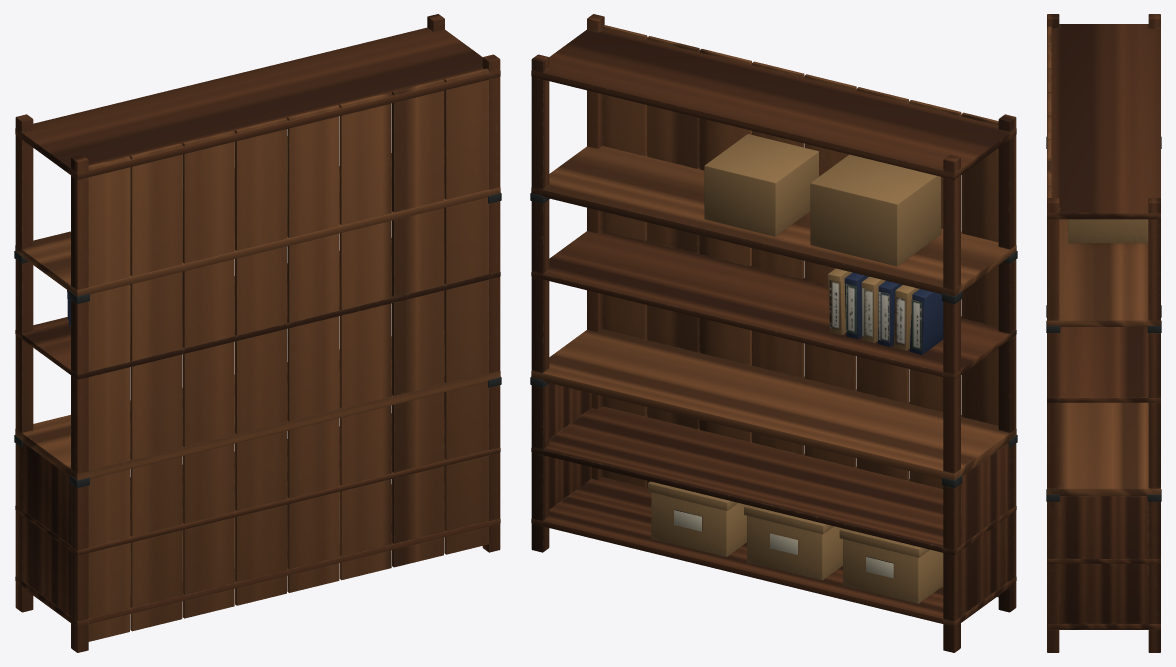
The model's file is CTCC_PROP_DryShelf.fbx.
The picture shows the model from 3 angles, left to right: view 1: azimuth 30°, elevation 25°; view 2: azimuth 150°, elevation 25°; view 3: azimuth 270°, elevation 25°; orthographic projection. The views are drawn at different scales.
Parts seen in each view (by area): view 1: CTCC_PROP_DryShelf_LOD0; view 2: CTCC_PROP_DryShelf_LOD0; view 3: CTCC_PROP_DryShelf_LOD0.
Boxes of the visible parts, x1,y1,x2,y2 form: CTCC_PROP_DryShelf_LOD0: (14,14,501,652); CTCC_PROP_DryShelf_LOD0: (530,14,1017,652); CTCC_PROP_DryShelf_LOD0: (1046,14,1161,652).
Size of what is drawn, in the model's own units: 2.13 by 2.35 by 0.546.
